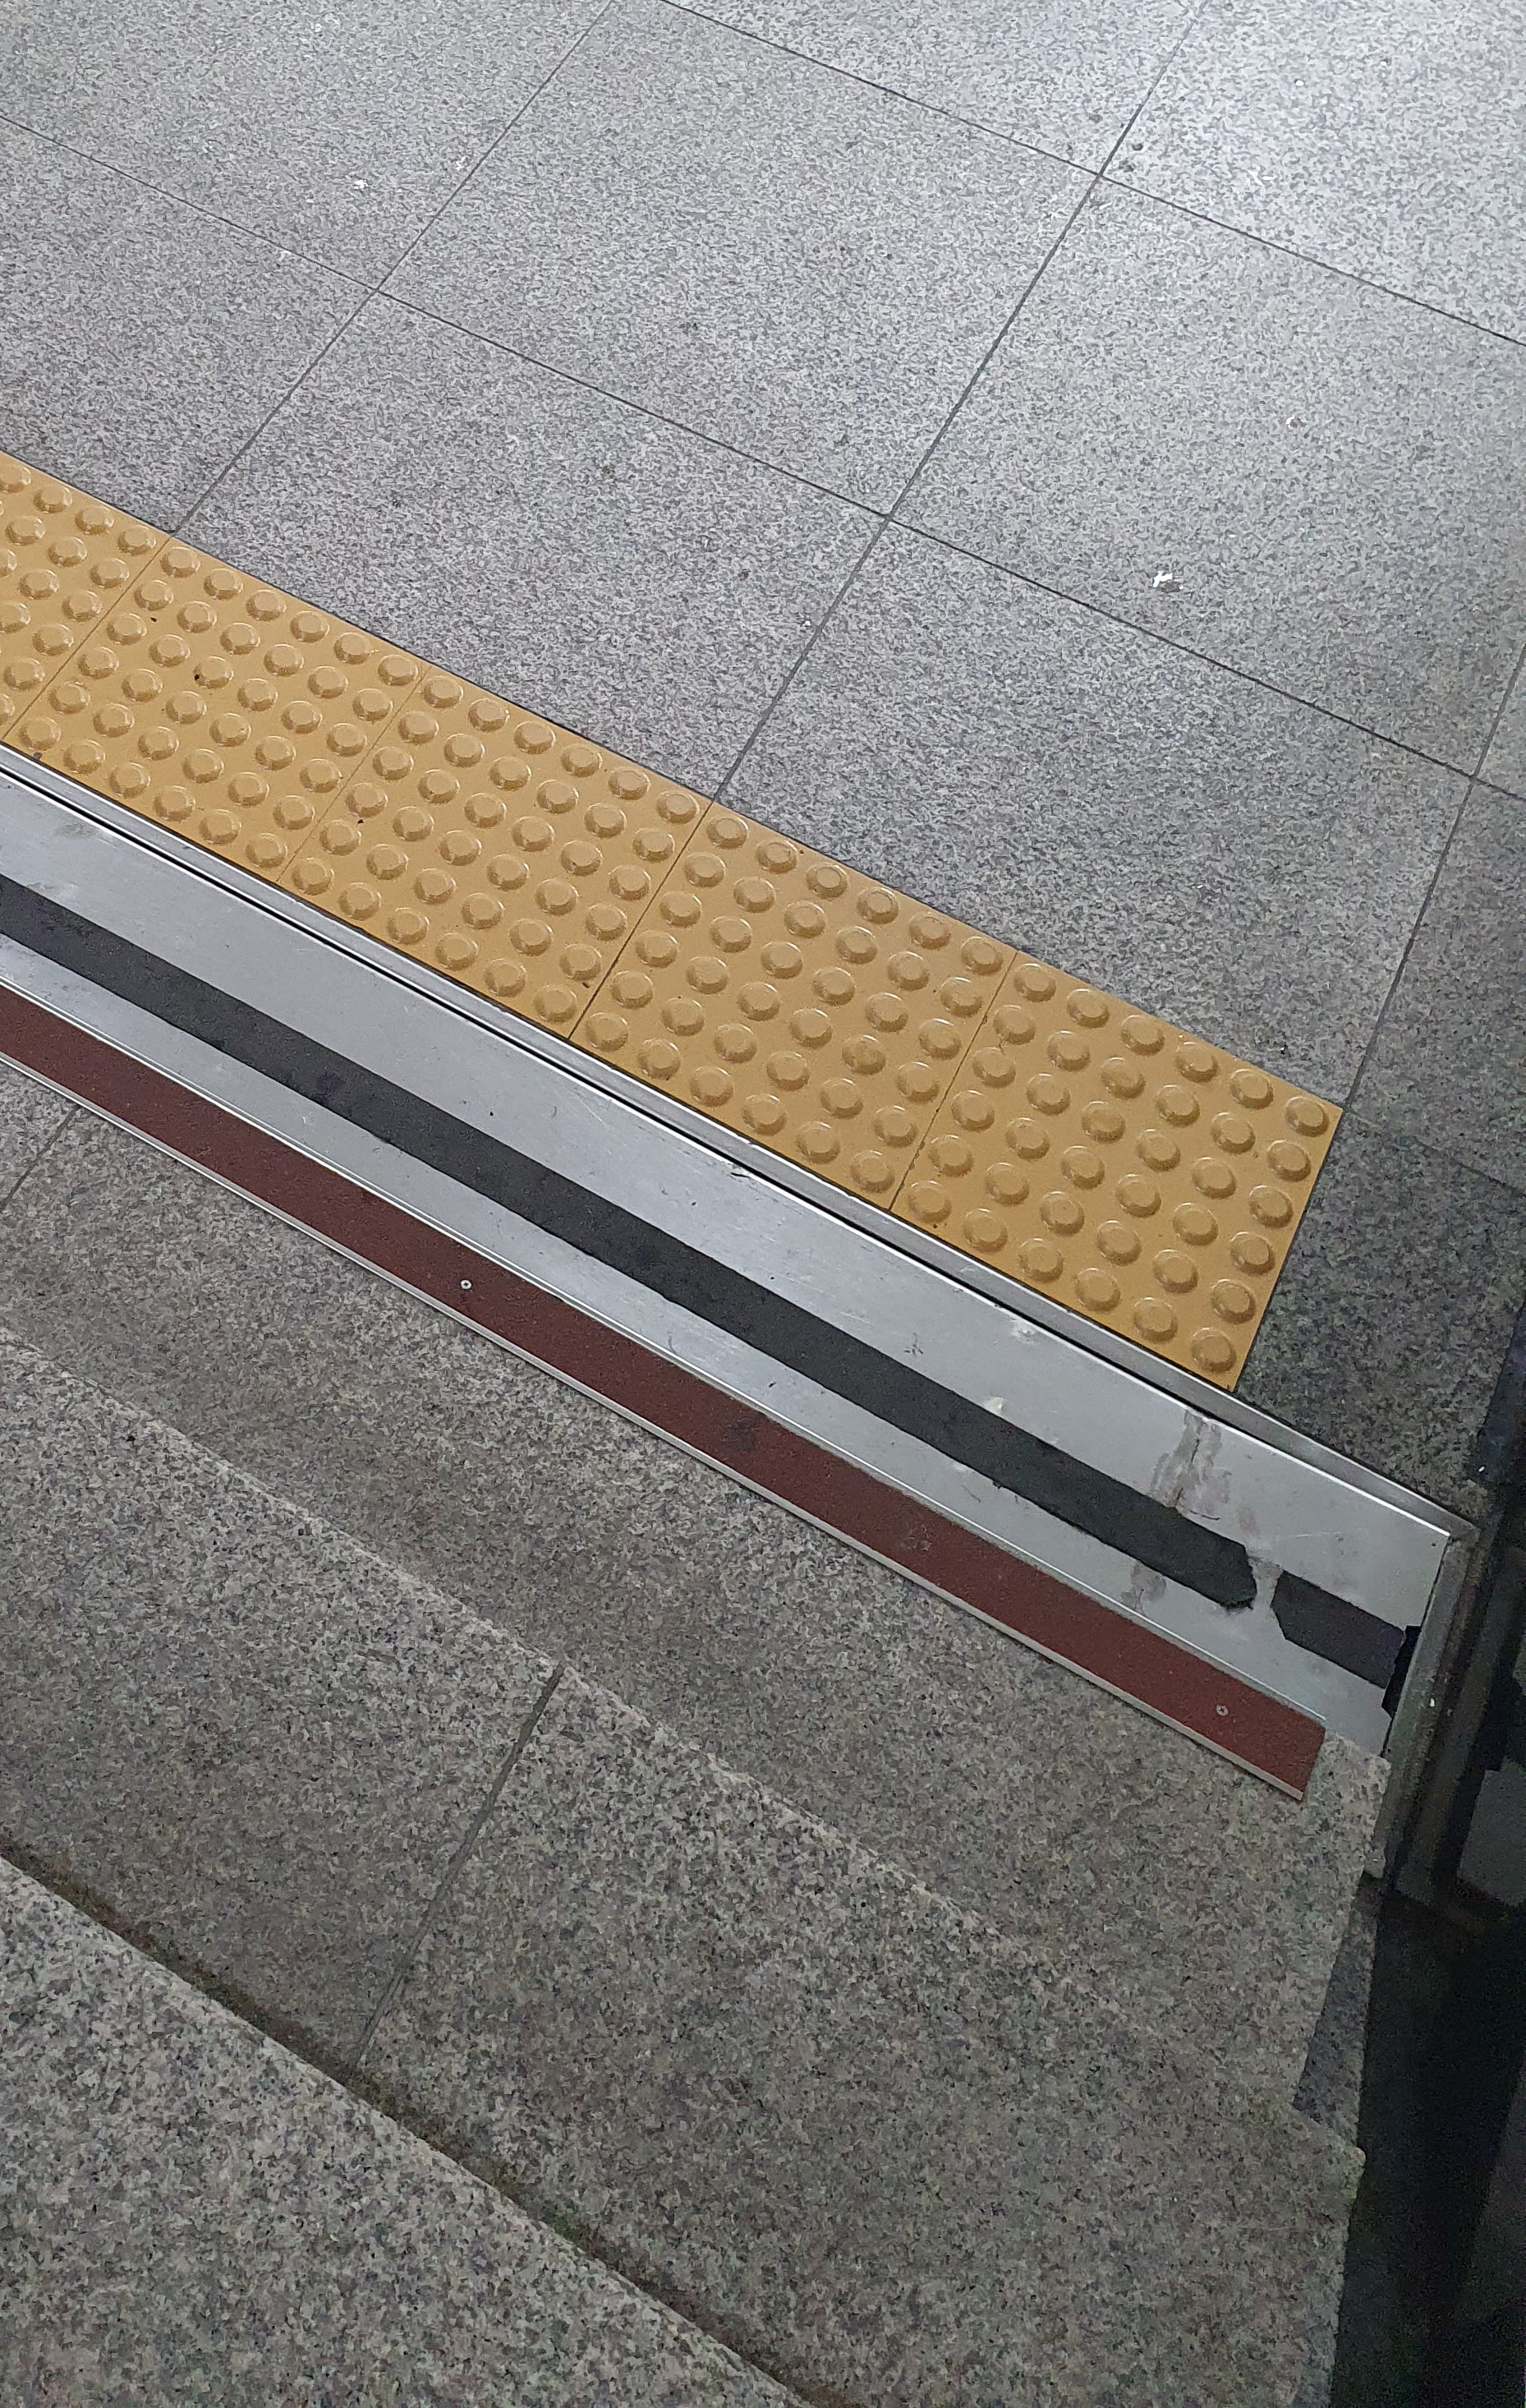warningBlock: (956, 976, 1323, 1376), (645, 855, 980, 1178), (114, 584, 414, 862), (349, 741, 649, 983), (11, 449, 210, 793)
